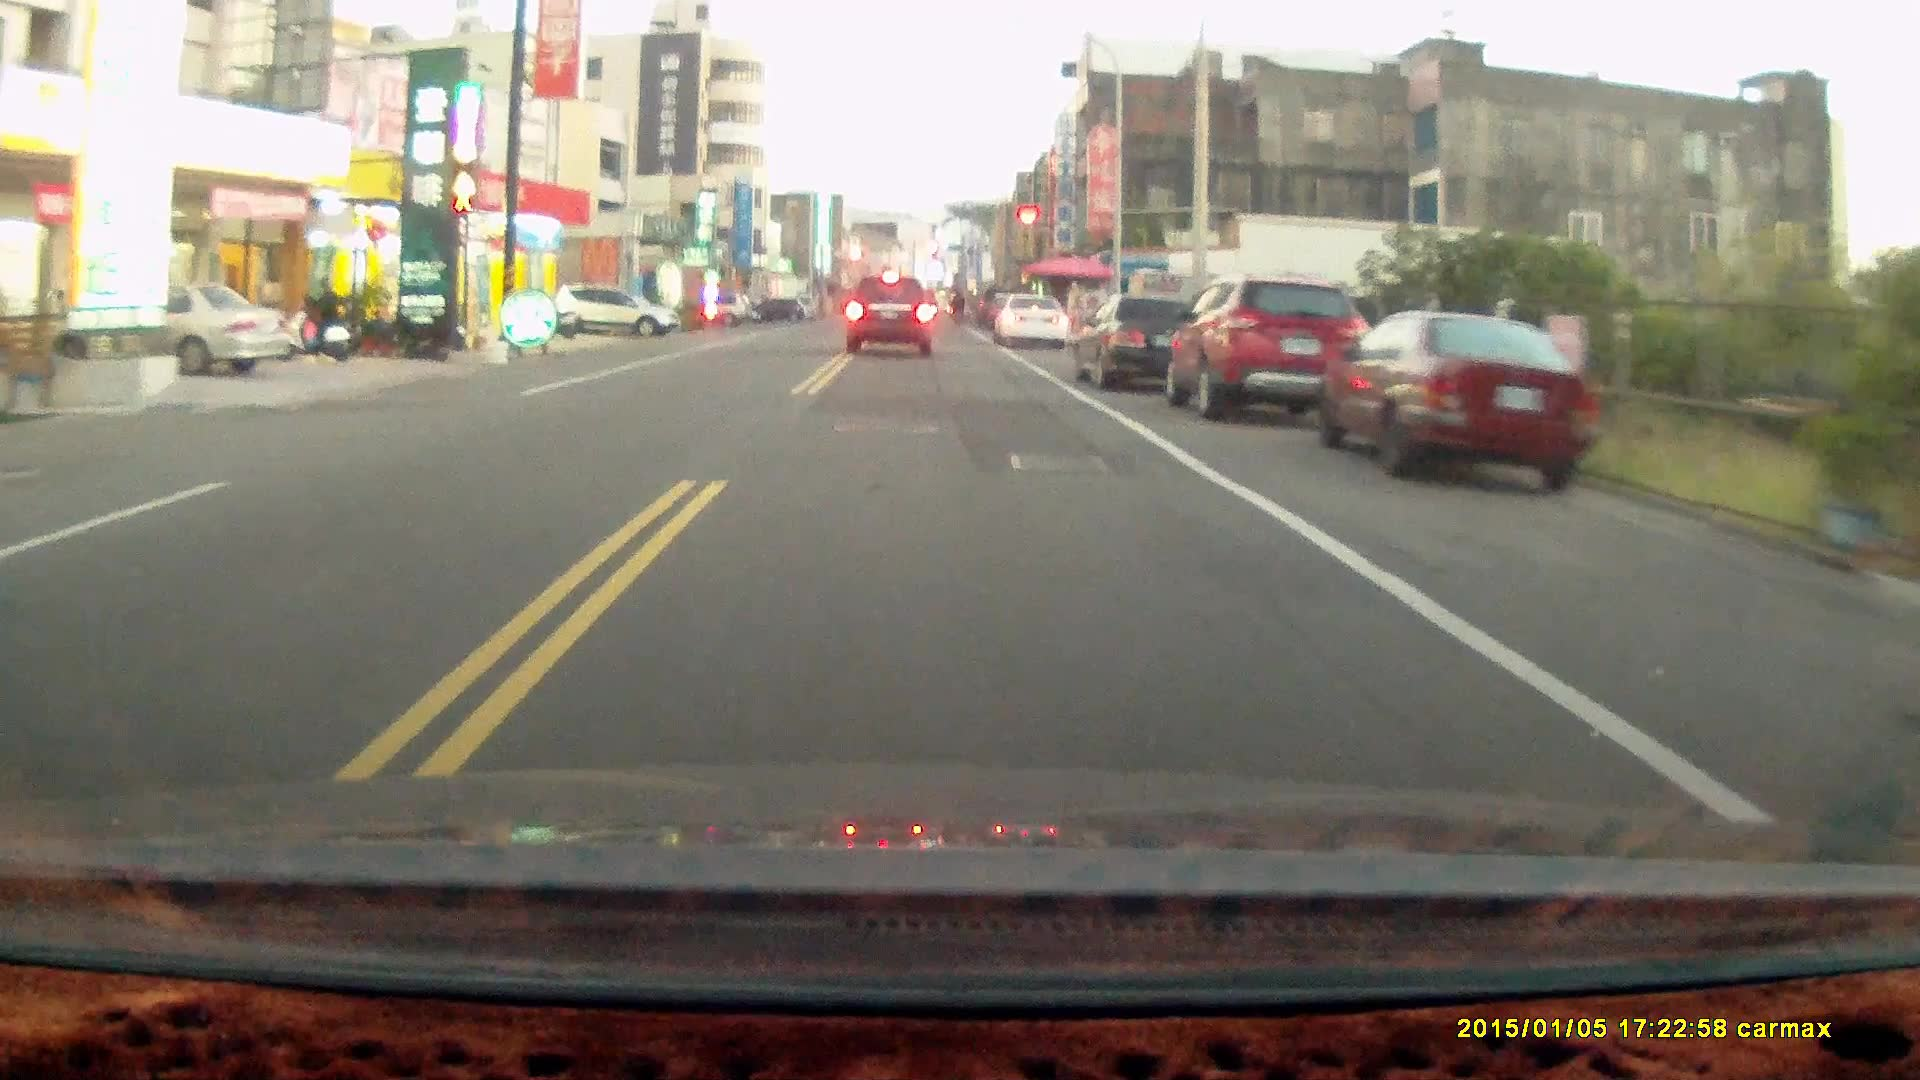vehicle: (1315, 309, 1601, 497), (1171, 276, 1383, 423), (69, 284, 287, 382), (1073, 293, 1215, 390), (847, 277, 938, 360), (554, 286, 682, 343), (996, 294, 1069, 352)
